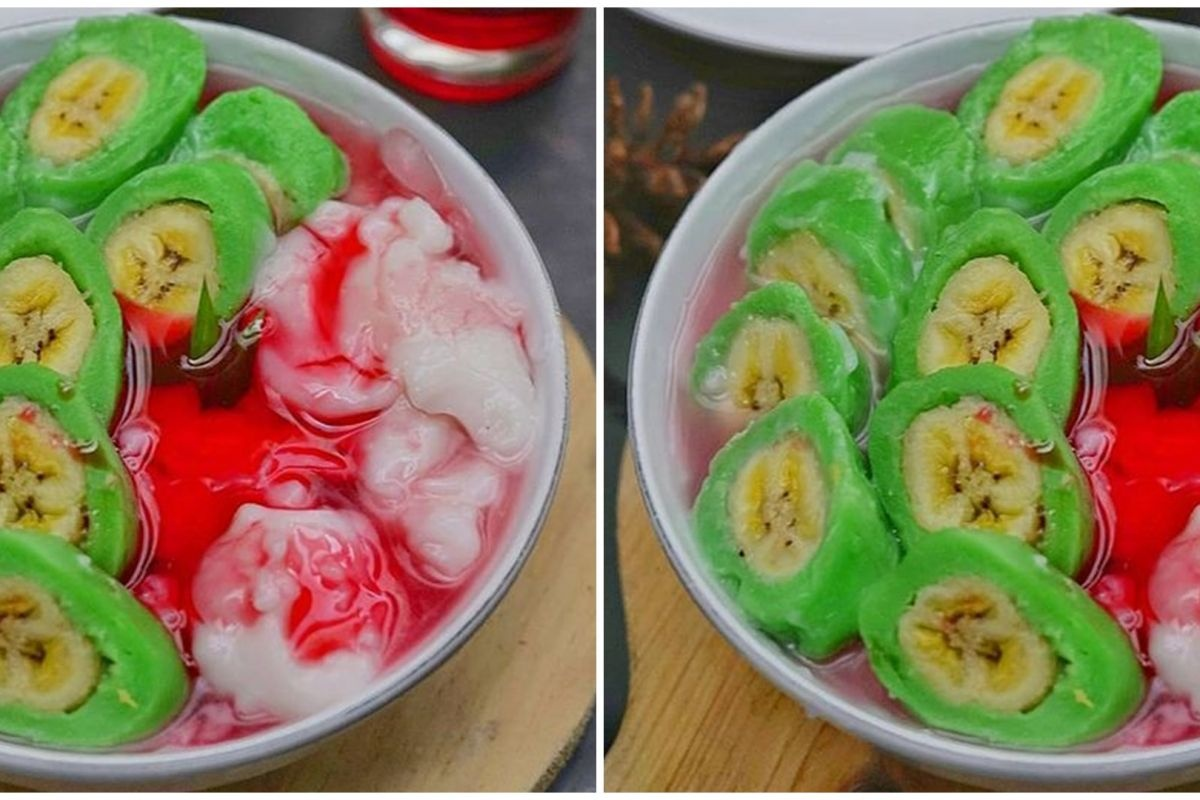pisang_ijo: (854, 534, 1139, 735), (675, 402, 878, 645), (878, 342, 1104, 554)
